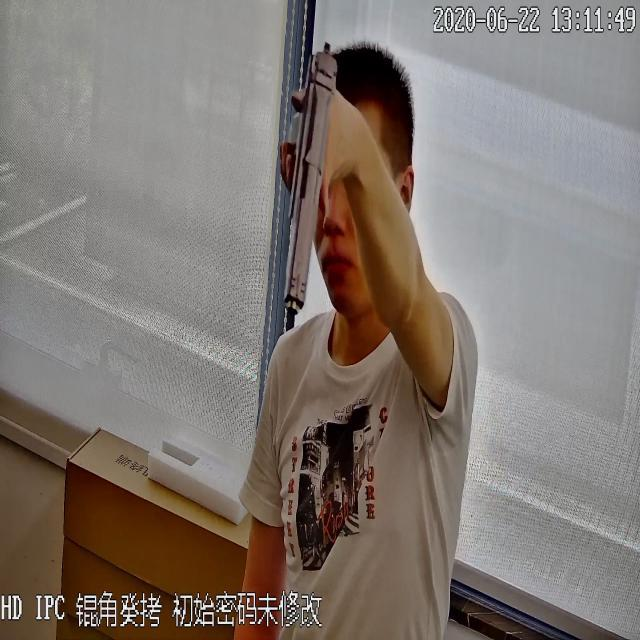gun-knife-thesis - v11 Yolov5 augmented: (274, 37, 348, 326)
